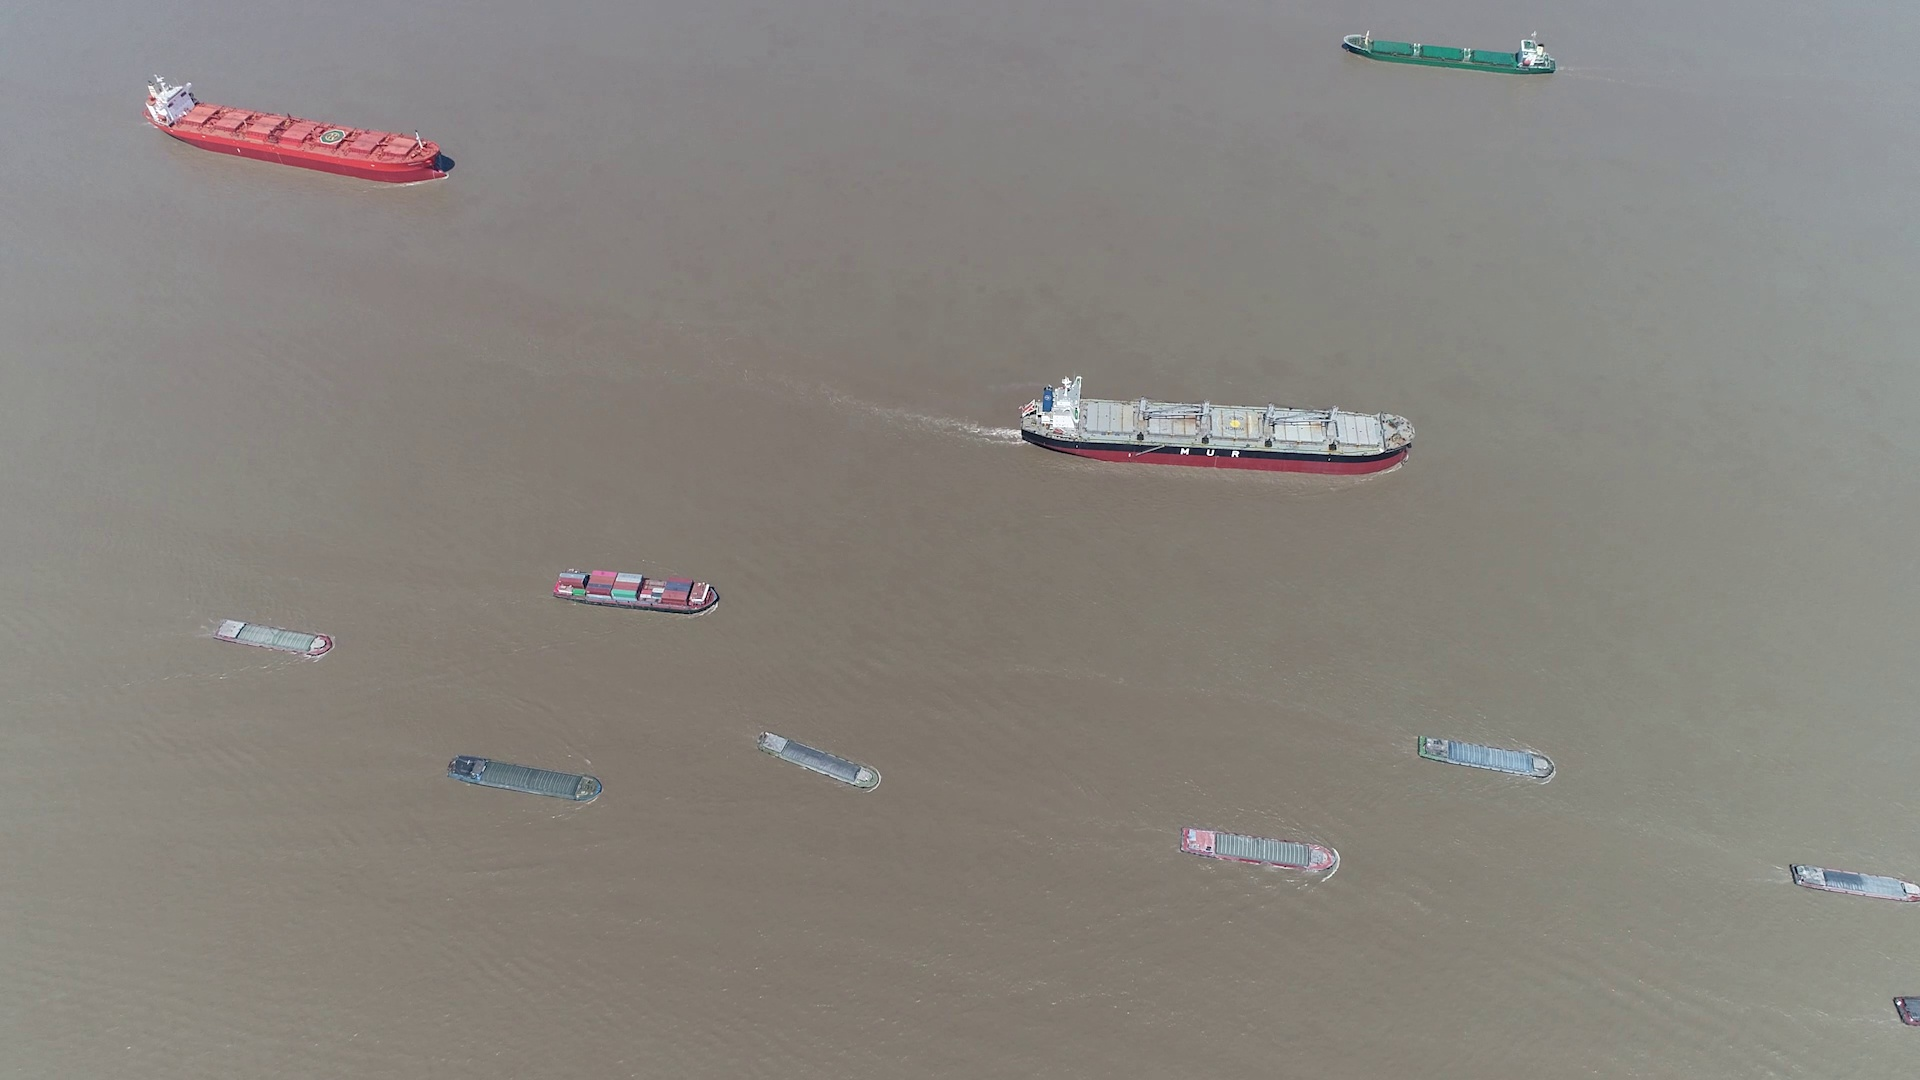ship: (1021, 382, 1414, 475), (146, 75, 450, 179), (1342, 30, 1553, 75), (448, 754, 605, 803), (1180, 827, 1341, 873), (760, 733, 884, 791), (555, 568, 717, 612), (1418, 736, 1555, 779), (1789, 864, 1917, 905), (212, 618, 334, 657), (1895, 998, 1920, 1033)
